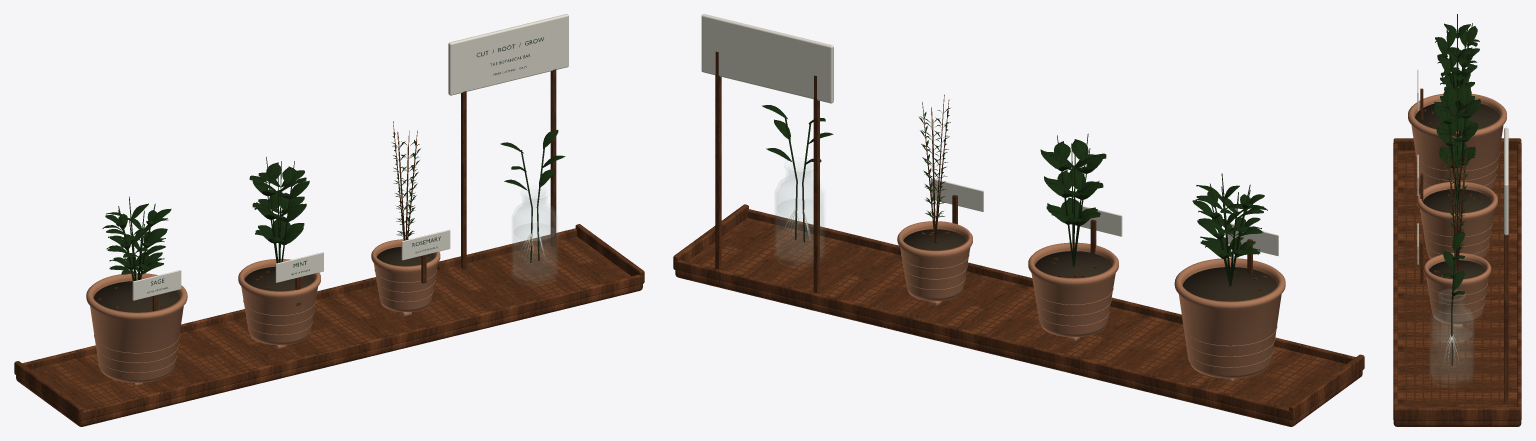
File: atelier_decor_terrace.glb
The picture shows the model from 3 angles, left to right: view 1: azimuth 30°, elevation 25°; view 2: azimuth 150°, elevation 25°; view 3: azimuth 270°, elevation 25°; orthographic projection. The views are drawn at different scales.
Parts seen in each view (by area): view 1: atelier_decor_terrace / Collection / oiled walnut, atelier_decor_terrace / Collection / hand-thrown terracotta, atelier_decor_terrace / Collection / botanical label stock, atelier_decor_terrace / Collection / botanical leaf, atelier_decor_terrace / Collection / propagation glass, atelier_decor_terrace / Collection / potting soil; view 2: atelier_decor_terrace / Collection / oiled walnut, atelier_decor_terrace / Collection / hand-thrown terracotta, atelier_decor_terrace / Collection / botanical label stock, atelier_decor_terrace / Collection / botanical leaf, atelier_decor_terrace / Collection / potting soil, atelier_decor_terrace / Collection / propagation glass; view 3: atelier_decor_terrace / Collection / oiled walnut, atelier_decor_terrace / Collection / hand-thrown terracotta, atelier_decor_terrace / Collection / botanical leaf, atelier_decor_terrace / Collection / propagation glass, atelier_decor_terrace / Collection / potting soil, atelier_decor_terrace / Collection / botanical label stock.
Part boxes in pixels (bbox=[...]): atelier_decor_terrace / Collection / oiled walnut: bbox=[14, 69, 644, 426]; atelier_decor_terrace / Collection / hand-thrown terracotta: bbox=[86, 239, 440, 385]; atelier_decor_terrace / Collection / botanical label stock: bbox=[132, 14, 568, 300]; atelier_decor_terrace / Collection / botanical leaf: bbox=[102, 130, 565, 281]; atelier_decor_terrace / Collection / propagation glass: bbox=[513, 193, 556, 281]; atelier_decor_terrace / Collection / potting soil: bbox=[93, 247, 434, 312]; atelier_decor_terrace / Collection / oiled walnut: bbox=[673, 51, 1364, 426]; atelier_decor_terrace / Collection / hand-thrown terracotta: bbox=[897, 221, 1285, 382]; atelier_decor_terrace / Collection / botanical label stock: bbox=[701, 14, 1278, 255]; atelier_decor_terrace / Collection / botanical leaf: bbox=[762, 105, 1267, 286]; atelier_decor_terrace / Collection / potting soil: bbox=[903, 229, 1277, 301]; atelier_decor_terrace / Collection / propagation glass: bbox=[776, 166, 823, 262]; atelier_decor_terrace / Collection / oiled walnut: bbox=[1393, 88, 1521, 426]; atelier_decor_terrace / Collection / hand-thrown terracotta: bbox=[1408, 93, 1506, 328]; atelier_decor_terrace / Collection / botanical leaf: bbox=[1434, 14, 1480, 365]; atelier_decor_terrace / Collection / propagation glass: bbox=[1430, 296, 1472, 382]; atelier_decor_terrace / Collection / potting soil: bbox=[1415, 102, 1499, 278]; atelier_decor_terrace / Collection / botanical label stock: bbox=[1417, 69, 1508, 365].
Bounding box in the file's own units: 1.71 × 0.6935 × 0.342.
7 materials, 2 textured.
